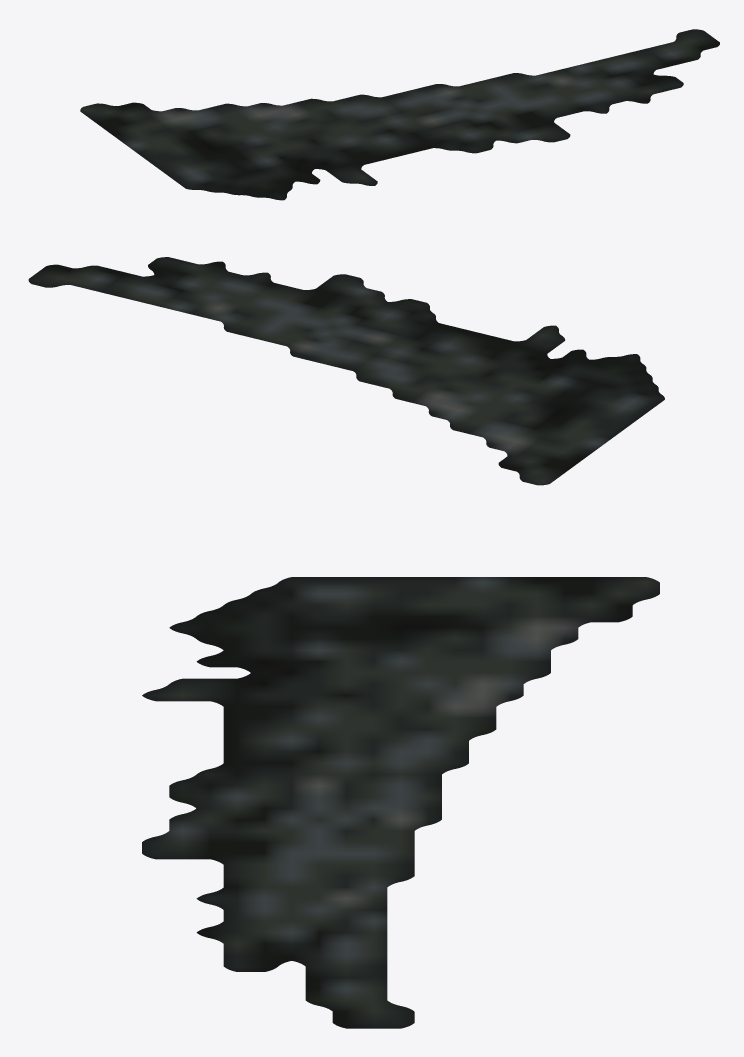
File: SM_EC_Tree_Part_Card_08.fbx
The picture shows the model from 3 angles, top to bottom: view 1: azimuth 30°, elevation 25°; view 2: azimuth 150°, elevation 25°; view 3: azimuth 270°, elevation 25°; orthographic projection. The views are drawn at different scales.
Visible parts, largest first — view 1: SM_EC_Tree_Part_Card_08; view 2: SM_EC_Tree_Part_Card_08; view 3: SM_EC_Tree_Part_Card_08.
Boxes of the visible parts, bbox=[...] form: SM_EC_Tree_Part_Card_08: bbox=[80, 29, 719, 200]; SM_EC_Tree_Part_Card_08: bbox=[28, 257, 664, 485]; SM_EC_Tree_Part_Card_08: bbox=[142, 577, 659, 1028].
Size of the model in its own units: 0.6775 by 0.4102 by 2.28e-10.
